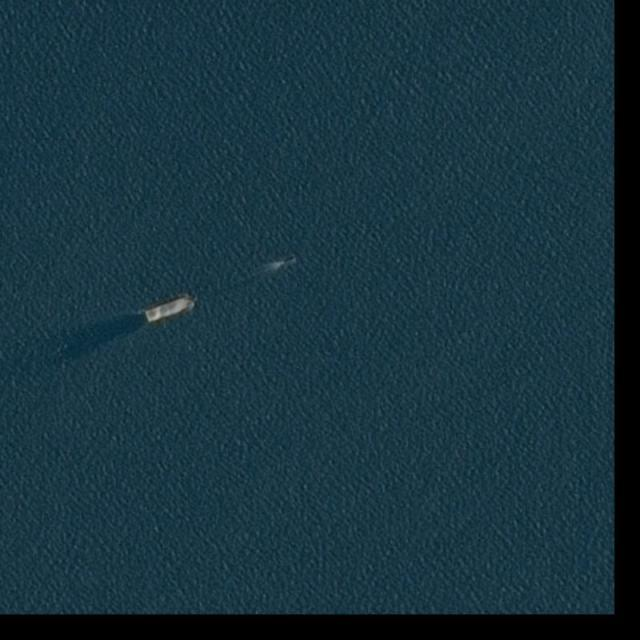ship: (146, 295, 195, 322), (281, 258, 293, 266)
